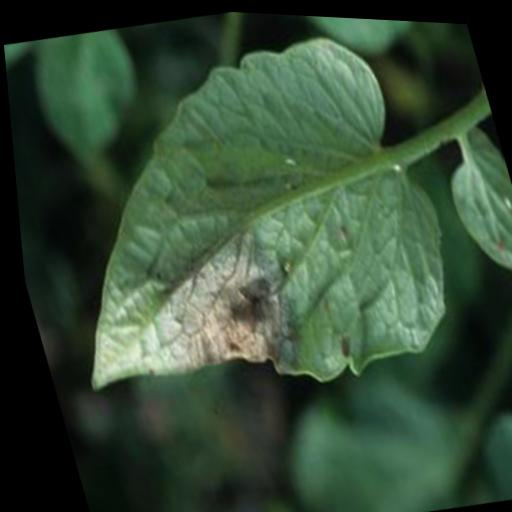Late Blight: (0, 0, 483, 435)
